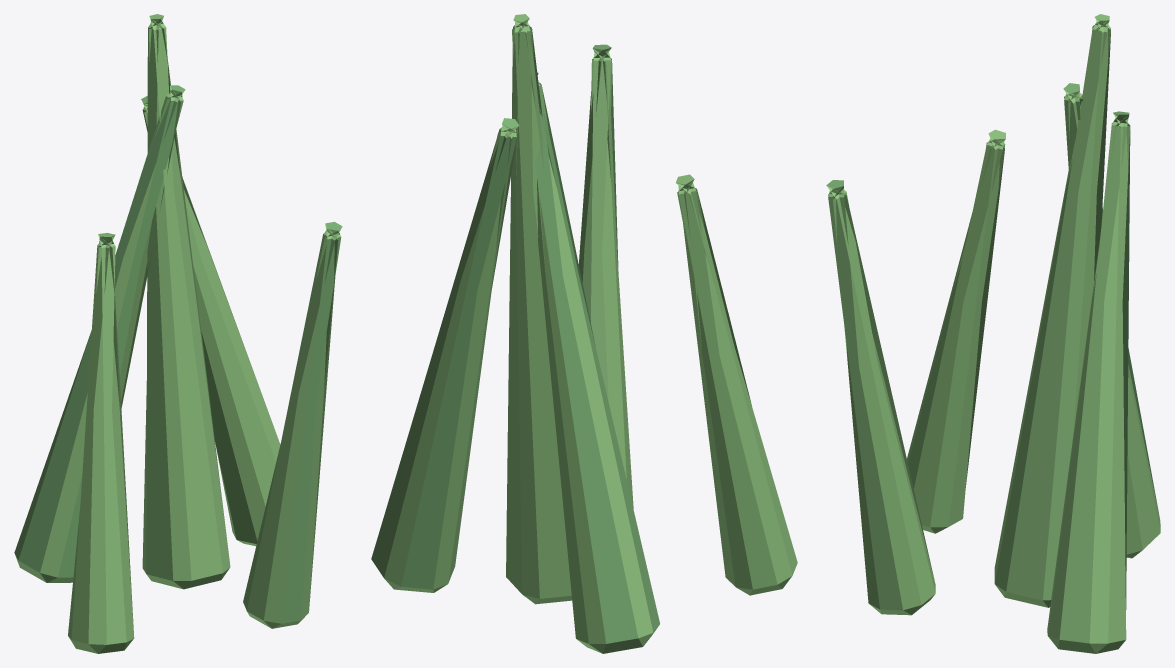
The picture shows the model from 3 angles, left to right: view 1: azimuth 30°, elevation 25°; view 2: azimuth 150°, elevation 25°; view 3: azimuth 270°, elevation 25°; orthographic projection. The views are drawn at different scales.
Parts seen in each view (by area): view 1: 草丛.001; view 2: 草丛.001; view 3: 草丛.001.
Boxes of the visible parts, <box> form: 草丛.001: <box>14,14,342,653</box>; 草丛.001: <box>371,14,797,653</box>; 草丛.001: <box>826,14,1160,653</box>.
Size of the model in its own units: 61.8 by 106 by 55.24.
